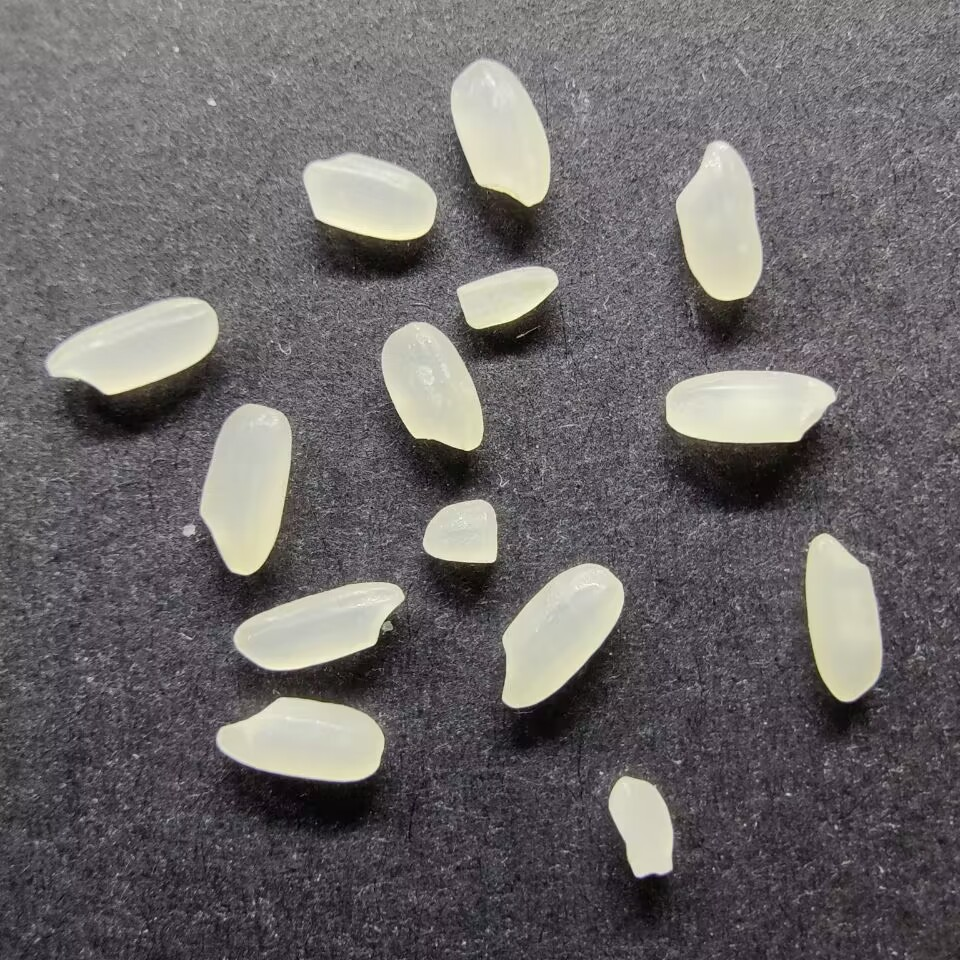broken: (608, 773, 677, 878), (455, 264, 561, 331), (419, 497, 500, 565)
rice: (497, 561, 625, 711), (43, 295, 219, 398), (196, 402, 294, 579), (230, 580, 407, 672), (448, 59, 550, 208), (215, 697, 384, 784), (675, 138, 764, 301), (380, 320, 486, 452), (802, 533, 884, 703), (663, 369, 838, 444), (300, 149, 439, 242)
